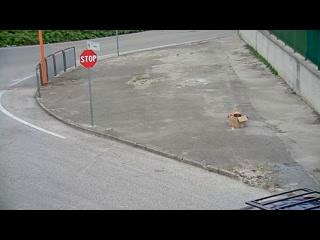fire: (228, 107, 249, 127)
